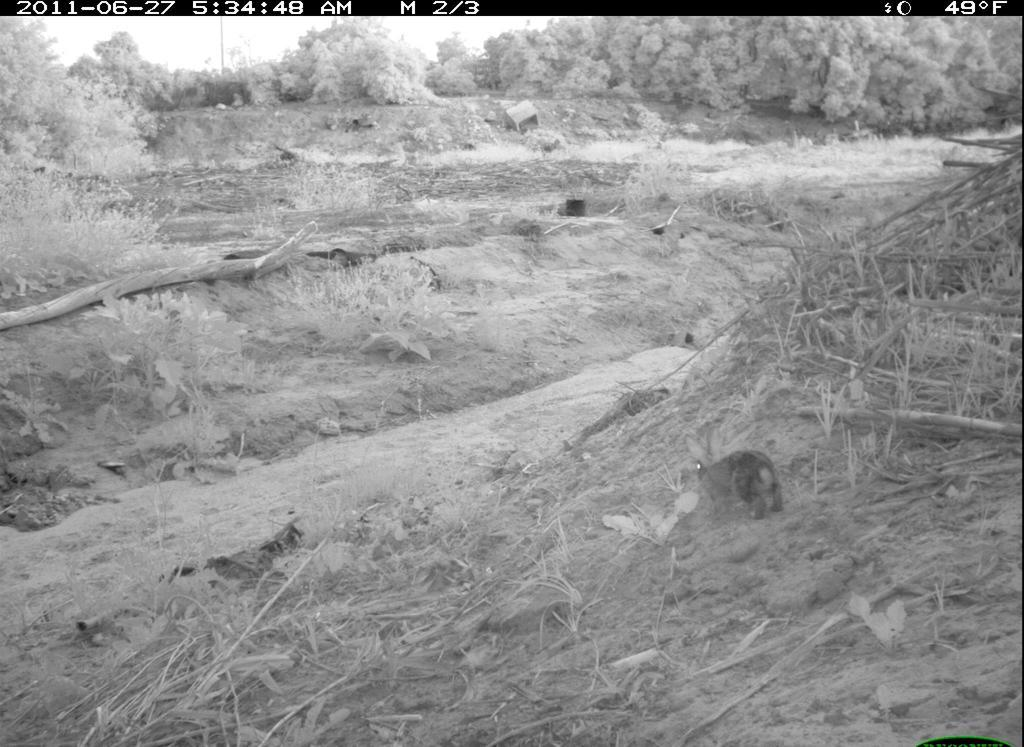rabbit: (685, 436, 803, 521)
